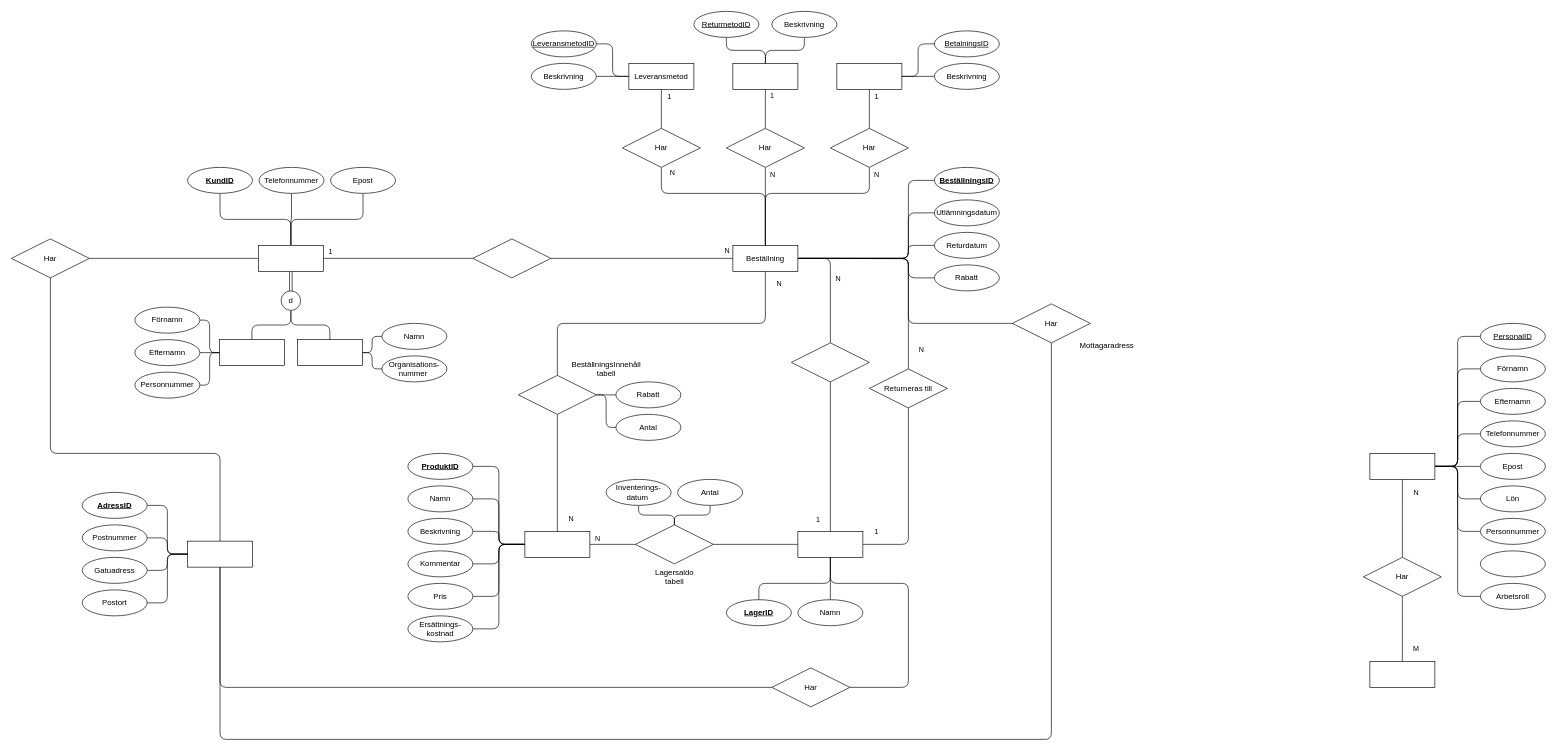
Some shapes in this 1557 by 751 pixel diagram are drawn without their labels. The centre of each missing label's shape, as x and y in pixels:
Adress: the point at 220,553
Anställningsdatum: the point at 1512,563
Betalningsmetod: the point at 869,76
Finns i: the point at 674,544
Företag: the point at 329,352
Gör: the point at 511,258
Innehåller: the point at 557,394
Kund: the point at 290,258
Lager: the point at 830,544
Personal: the point at 1402,466
Privatperson: the point at 251,352
Produkt: the point at 557,544
Returmetod: the point at 765,76
Utlämnas vid: the point at 830,362
Åtkomsträttighet: the point at 1402,674
